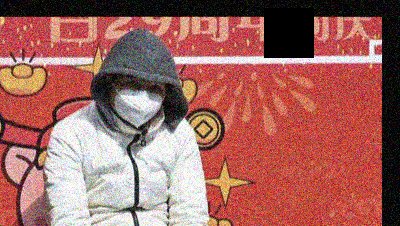with_mask: (107, 75, 166, 130)
